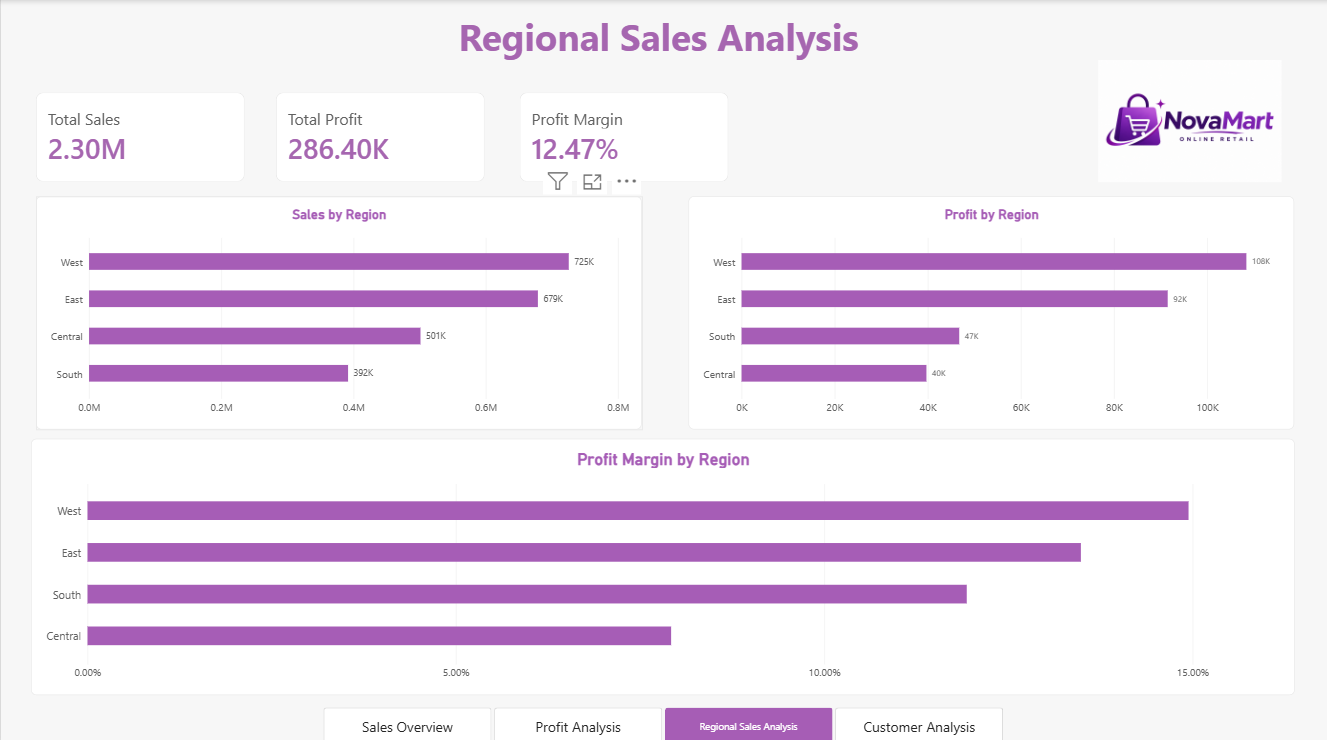

Layout of this report page (visuals, bound fields, positions):
{"tool":"powerbi","page":{"name":"Regional Sales Analysis","canvas":[1920,1080],"ordinal":2},"visuals":[{"type":"cardVisual","fields":{"Data":["Sample - Superstore.Total Sales"]},"box":[50.6,133.8,302.6,129.7],"z":0},{"type":"textbox","box":[662.6,16.5,594.9,80.3],"z":1000},{"type":"cardVisual","fields":{"Data":["Sample - Superstore.Total Profit"]},"box":[398.5,133.8,302.6,129.7],"z":2000},{"type":"cardVisual","fields":{"Data":["Sample - Superstore.Profit Margin"]},"box":[751.3,134.6,302.6,129.7],"z":3000},{"type":"clusteredBarChart","title":"Sales by Region","fields":{"Category":["Sample - Superstore.Region"],"Y":["Sample - Superstore.Total Sales"]},"box":[50.7,284.1,876.8,337.6],"z":4000},{"type":"clusteredBarChart","title":"Profit by Region","fields":{"Category":["Sample - Superstore.Region"],"Y":["Sample - Superstore.Total Profit"]},"box":[995.3,284.1,876.8,337.6],"z":5000},{"type":"clusteredBarChart","title":"Profit Margin by Region","fields":{"Category":["Sample - Superstore.Region"],"Y":["Sample - Superstore.Profit Margin"]},"box":[43.4,635.2,1829.6,371],"z":6000},{"type":"image","box":[1556.3,86.9,329.3,177],"z":7000},{"type":"pageNavigator","box":[466.1,1024.1,987.8,55.6],"z":7002}]}

Visuals, with their boxes in screenshot pixels (x1, y1, x2, y2), scaled from the page's 1920x1080 canvas onto the 1327x740 screenshot:
cardVisual - Sample - Superstore.Total Sales: 35, 92, 244, 181
textbox: 458, 11, 869, 66
cardVisual - Sample - Superstore.Total Profit: 275, 92, 485, 181
cardVisual - Sample - Superstore.Profit Margin: 519, 92, 728, 181
"Sales by Region" clusteredBarChart: 35, 195, 641, 426
"Profit by Region" clusteredBarChart: 688, 195, 1294, 426
"Profit Margin by Region" clusteredBarChart: 30, 435, 1295, 689
image: 1076, 60, 1303, 181
pageNavigator: 322, 702, 1005, 739
